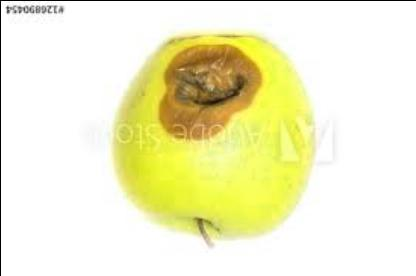defect: (136, 9, 258, 160)
